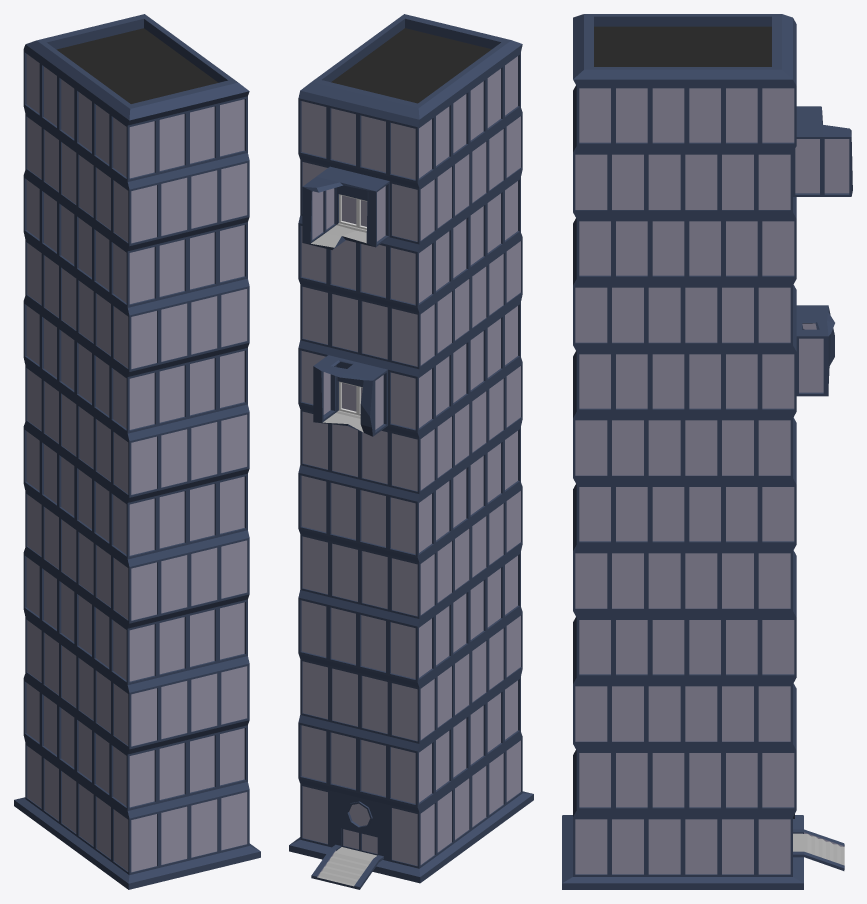
Rendered from Building2Broken.fbx.
The picture shows the model from 3 angles, left to right: view 1: azimuth 30°, elevation 25°; view 2: azimuth 150°, elevation 25°; view 3: azimuth 270°, elevation 25°; orthographic projection. The views are drawn at different scales.
Visible parts, largest first — view 1: Building; view 2: Building; view 3: Building.
Boxes of the visible parts, x1,y1,x2,y2 form: Building: [14, 14, 260, 889]; Building: [289, 14, 533, 889]; Building: [562, 14, 852, 889].
Bounding box in the file's own units: 1281 × 7158 × 2310.
